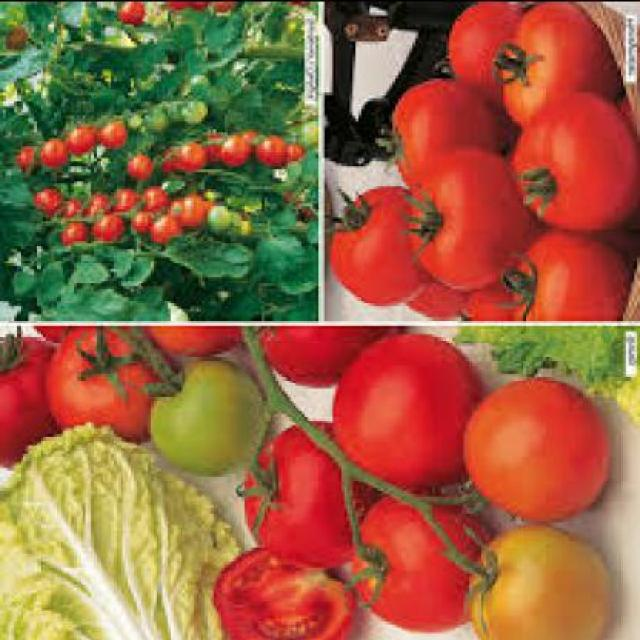BIODEGRADABLE: (0, 417, 240, 638), (330, 335, 484, 483), (461, 373, 608, 515), (239, 419, 378, 563), (506, 88, 637, 230), (351, 494, 486, 628), (449, 324, 637, 416), (464, 518, 602, 638), (407, 145, 521, 281), (40, 322, 168, 438), (494, 5, 620, 120), (211, 538, 352, 637), (148, 350, 262, 472), (381, 77, 504, 185), (498, 228, 632, 318), (328, 185, 426, 302), (244, 322, 396, 384), (1, 330, 65, 467), (446, 1, 522, 90), (137, 322, 238, 356), (404, 278, 471, 316), (463, 282, 512, 318), (253, 128, 290, 164), (34, 130, 66, 164), (63, 122, 94, 153), (216, 132, 250, 159), (177, 190, 205, 222), (140, 97, 168, 128), (89, 211, 122, 235), (177, 140, 205, 168), (230, 126, 268, 146), (109, 182, 136, 210), (94, 115, 125, 139), (111, 1, 142, 25), (149, 208, 176, 235), (157, 143, 185, 168), (202, 125, 227, 153), (177, 97, 205, 120), (122, 151, 150, 174), (205, 202, 230, 227), (137, 182, 165, 204), (12, 146, 42, 166), (58, 191, 82, 214), (32, 185, 56, 208), (63, 220, 88, 242), (228, 211, 248, 235), (88, 191, 108, 214), (284, 136, 304, 156), (128, 210, 150, 228), (3, 26, 17, 42), (210, 0, 233, 9), (160, 0, 185, 6), (184, 0, 204, 6)
